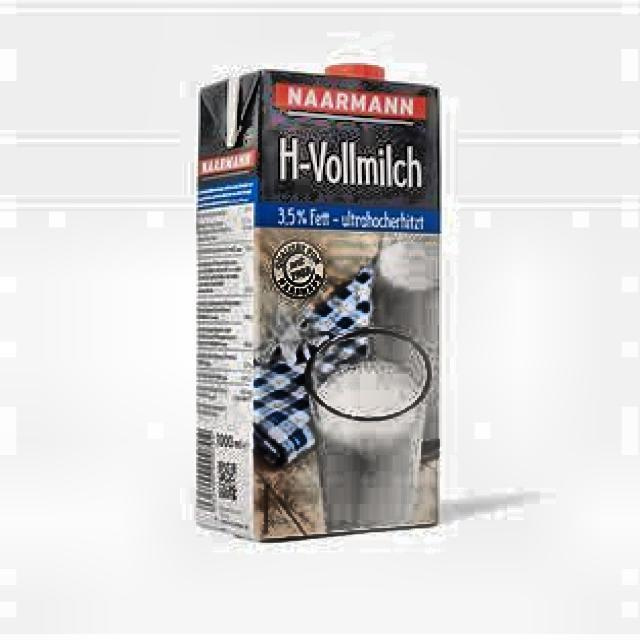cardboard: (194, 64, 442, 540)
